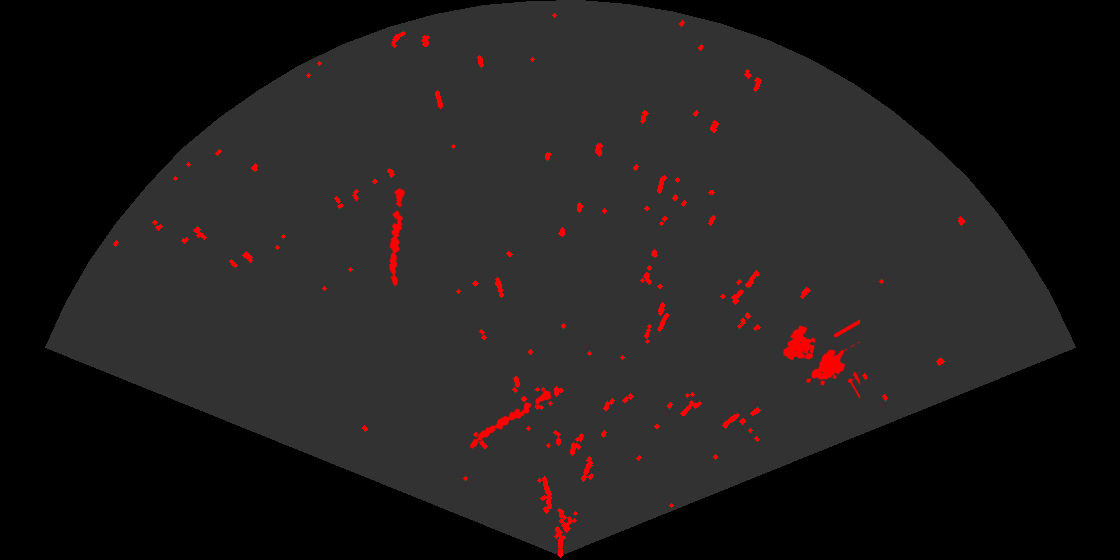cage: (782, 318, 860, 400)
chain: (468, 388, 553, 450), (387, 185, 406, 287)
